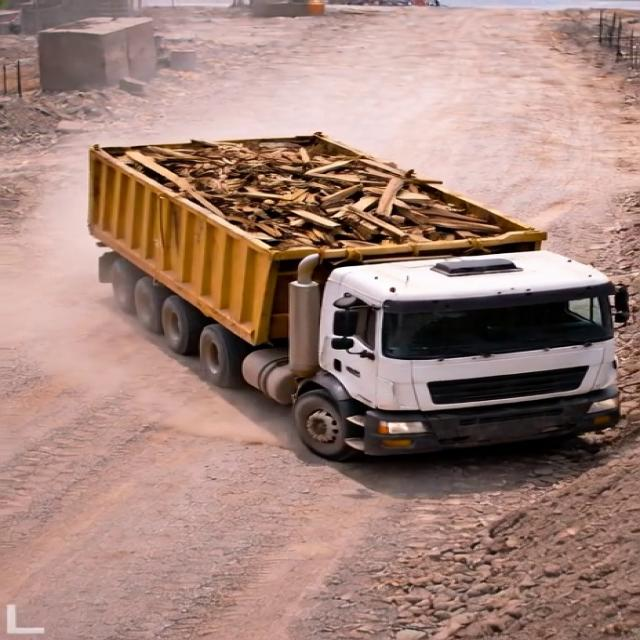Box: (89, 138, 541, 257)
Truck: (75, 122, 634, 464)
